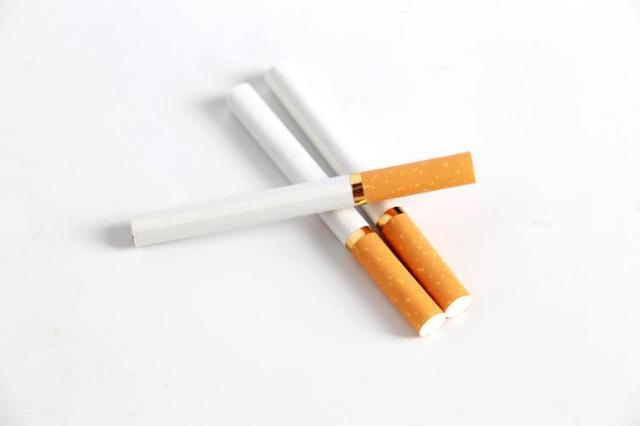Smoking: (227, 82, 447, 338), (264, 65, 472, 319), (128, 151, 478, 249)
